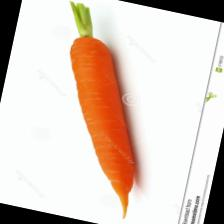carrot: (37, 32, 160, 217)
